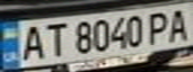0: (124, 11, 148, 48), (90, 16, 112, 53)
4: (109, 13, 130, 51)
8: (69, 18, 93, 55)
A: (15, 22, 48, 61), (163, 6, 193, 43)
P: (142, 8, 175, 45)
T: (39, 20, 69, 57)
